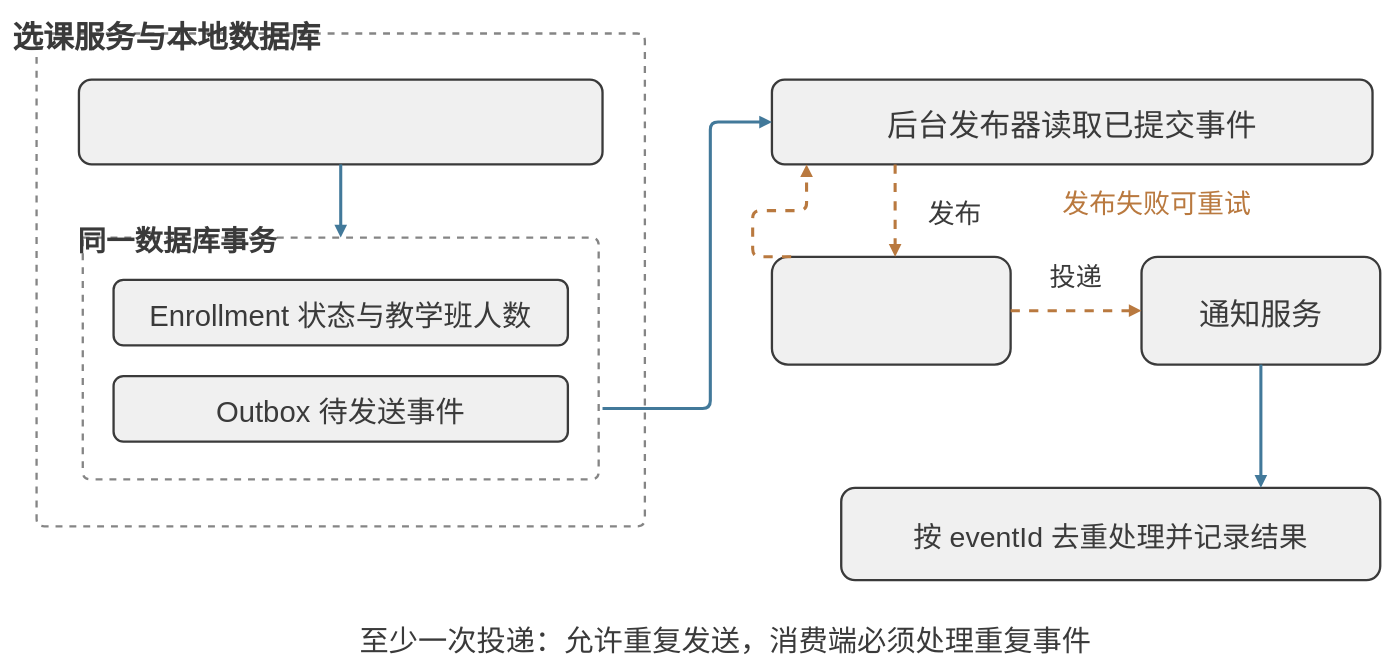
Image size: 1393x670. Some labels were removed from this diagram. The shapes that lost their labels are listed below. From the top down, each one's centre as x and y in pixels, then its label:
At point 340,121: "选课服务".
At point 890,310: "消息队列".
